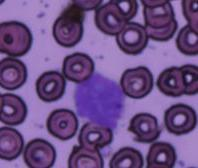M: (74, 72, 126, 128)
